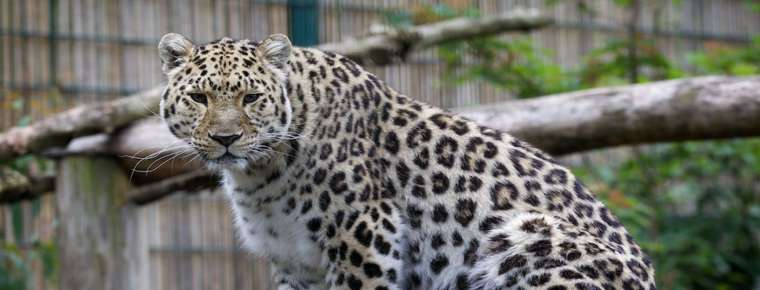amur_leopard: (151, 22, 650, 288)
